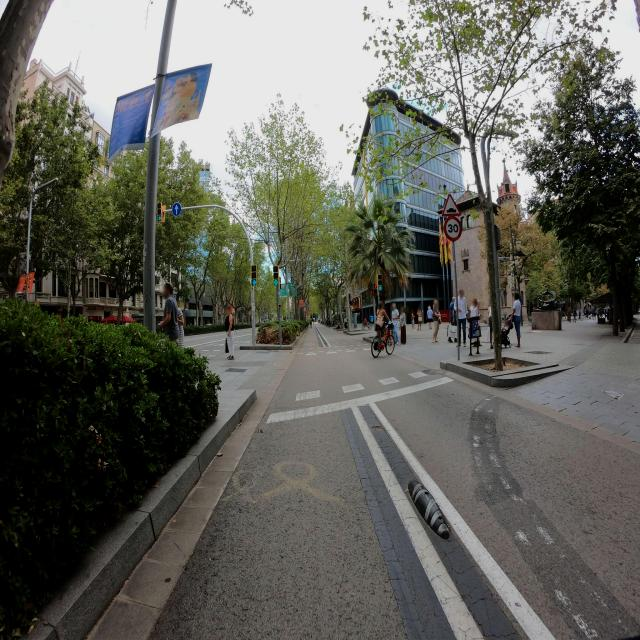bike: (371, 322, 395, 358), (362, 318, 372, 330)
